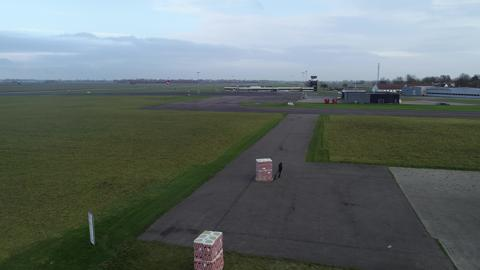RockwoolPallet: (254, 156, 273, 181)
